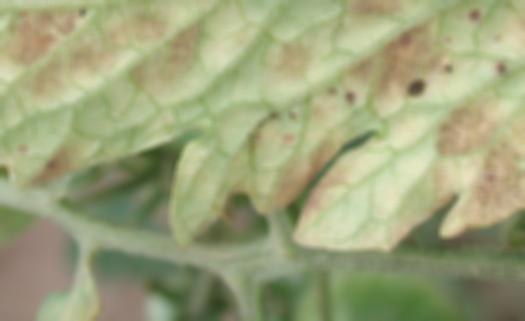Tomato mold leaf: (0, 0, 525, 290)
